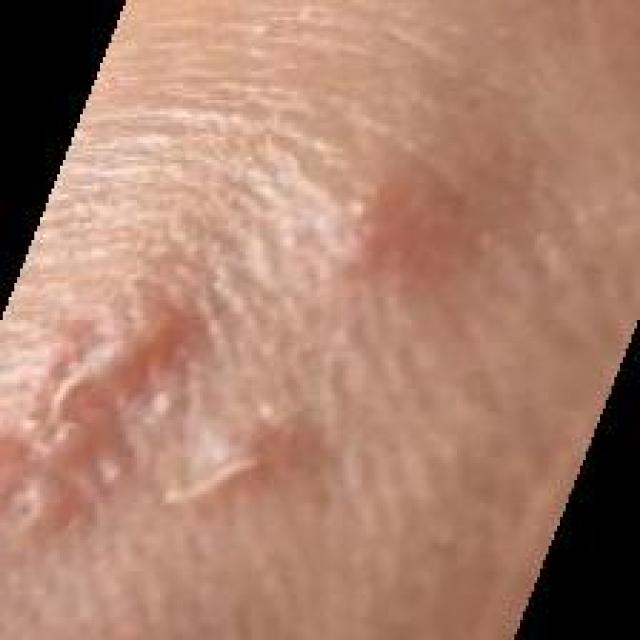monkeypox: (0, 77, 480, 640)
